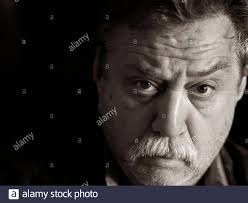white_male: (108, 43, 238, 187)
